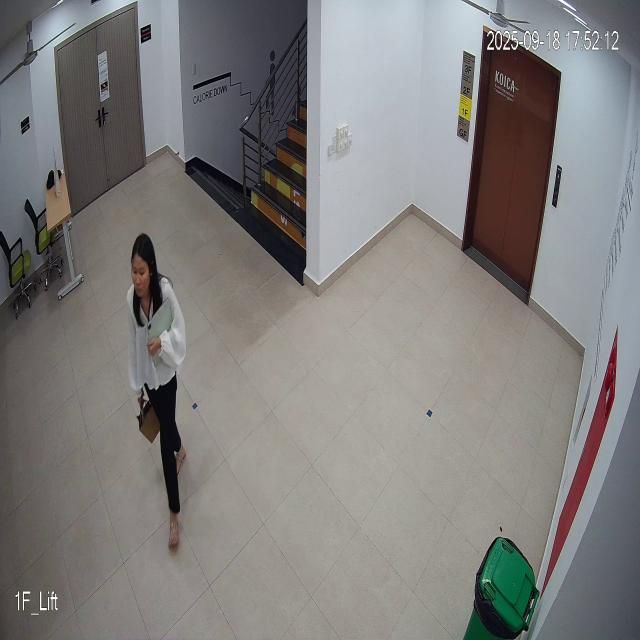face: (129, 229, 156, 300)
